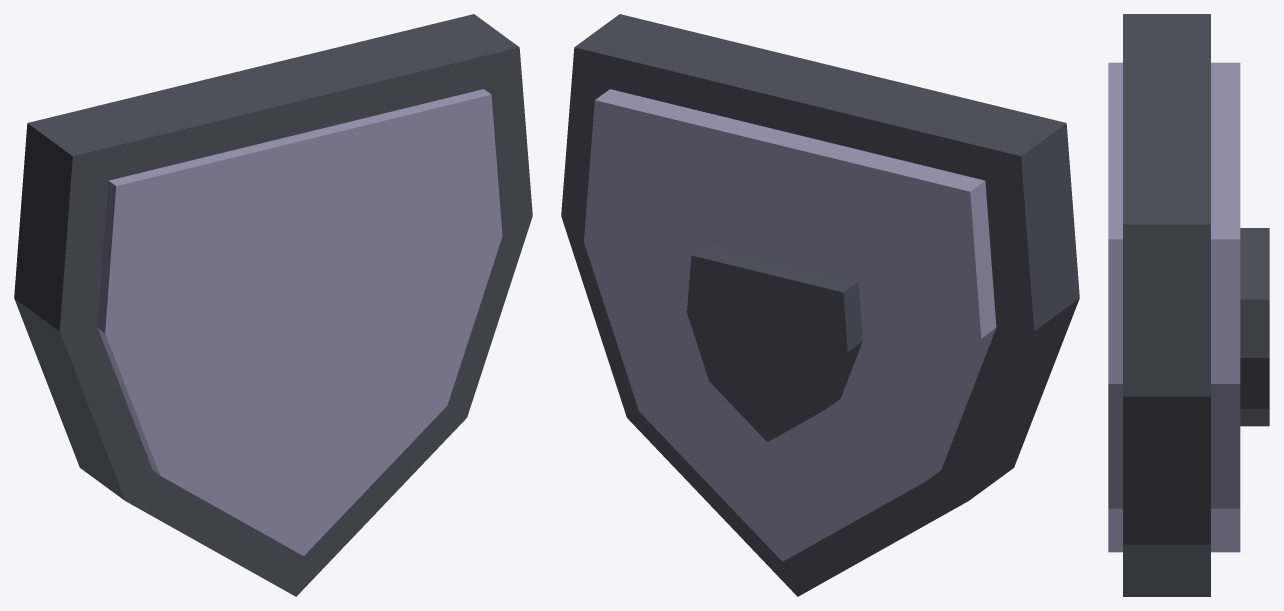
File: pu-shield.glb
The picture shows the model from 3 angles, left to right: view 1: azimuth 30°, elevation 25°; view 2: azimuth 150°, elevation 25°; view 3: azimuth 270°, elevation 25°; orthographic projection. The views are drawn at different scales.
Parts seen in each view (by area): view 1: PU_shield; view 2: PU_shield; view 3: PU_shield.
Part boxes in pixels (x1=…): PU_shield: x1=14, y1=14, x2=532, y2=596; PU_shield: x1=561, y1=14, x2=1079, y2=596; PU_shield: x1=1108, y1=14, x2=1269, y2=596.
Size of the model in its own units: 0.72 by 0.72 by 0.22.
